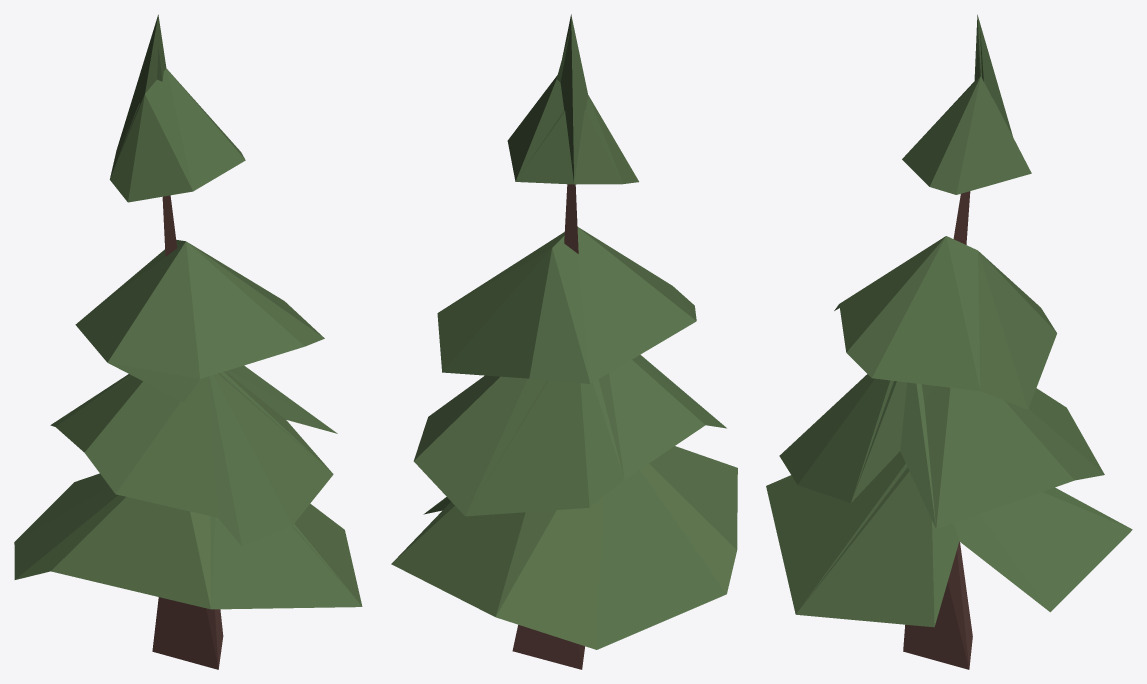
3 views of the same model, side by side, from view 1: azimuth 30°, elevation 25°; view 2: azimuth 150°, elevation 25°; view 3: azimuth 270°, elevation 25° (orthographic). The views are drawn at different scales.
Visible parts, largest first — view 1: cylinder-024; view 2: cylinder-024; view 3: cylinder-024.
Part boxes in pixels (x1=…): cylinder-024: x1=14, y1=14, x2=362, y2=669; cylinder-024: x1=391, y1=14, x2=737, y2=669; cylinder-024: x1=766, y1=14, x2=1132, y2=669.
Size of the model in its own units: 1.84 by 3.57 by 1.9.
